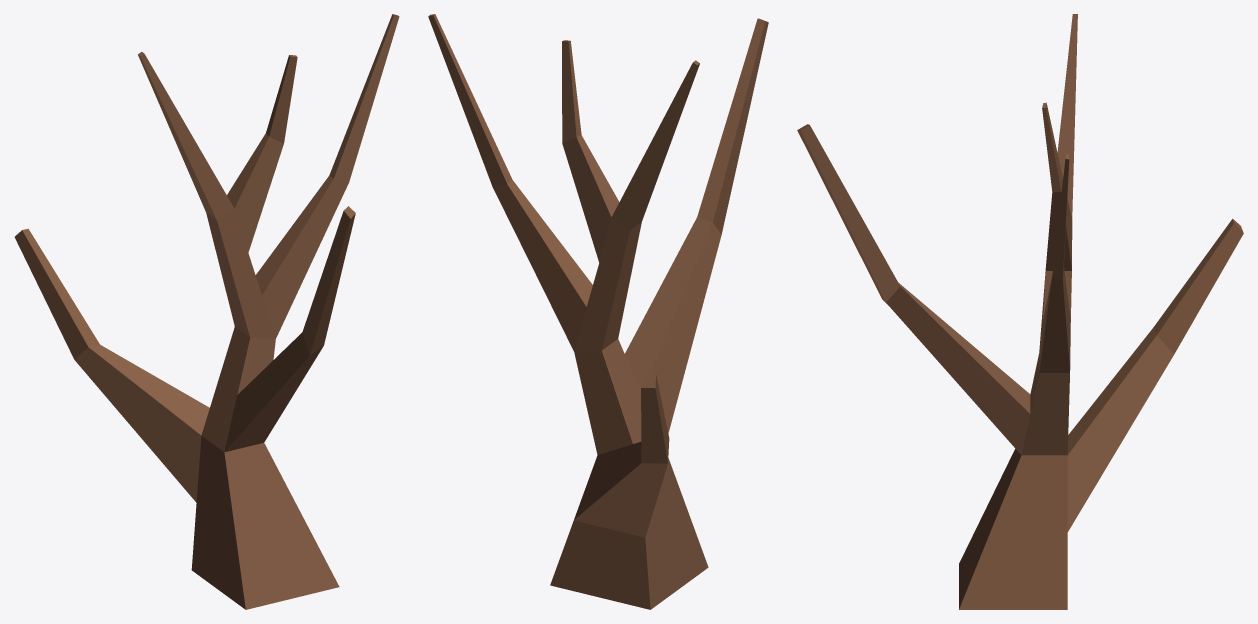
The model's file is BushAutumn2_Alt4.fbx.
3 renders of one model, left to right at view 1: azimuth 30°, elevation 25°; view 2: azimuth 150°, elevation 25°; view 3: azimuth 270°, elevation 25°, orthographic. The views are drawn at different scales.
Parts seen in each view (by area): view 1: BushAutumn2_Alt4; view 2: BushAutumn2_Alt4; view 3: BushAutumn2_Alt4.
Part boxes in pixels (x1,y1,x2,y2): BushAutumn2_Alt4: [14, 14, 399, 609]; BushAutumn2_Alt4: [428, 14, 768, 609]; BushAutumn2_Alt4: [797, 14, 1243, 609].
Size of the model in its own units: 0.3068 by 0.5177 by 0.397.
